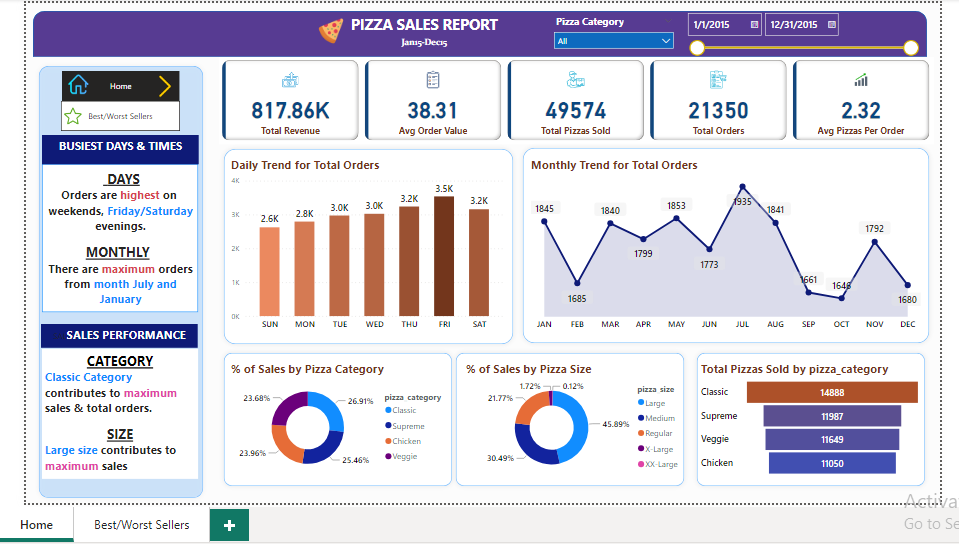

The page's visual inventory and layout, read from the dashboard file:
{"tool":"powerbi","page":{"name":"Home","canvas":[1500,820],"ordinal":0},"visuals":[{"type":"shape","box":[13.1,95.1,285.4,724.9],"z":0},{"type":"cardVisual","fields":{"Data":["pizza_sales.Total Revenue","pizza_sales.Avg Order Value","pizza_sales.Total Pizzas Sold","pizza_sales.Total Orders","pizza_sales.Avg Pizzas Per Order"]},"box":[316.5,88.6,1172.6,142.7],"z":1000},{"type":"shape","box":[11.5,13.1,1466.2,75.4],"z":2000},{"type":"textbox","box":[500,12.3,306.2,42],"z":3000},{"type":"textbox","box":[603.7,49.4,98.8,28.4],"z":4000},{"type":"image","box":[471.6,19.8,55.6,51.9],"z":5000},{"type":"shape","box":[316.5,231.2,490.4,336.2],"z":6000},{"type":"columnChart","title":"Daily Trend for Total Orders","fields":{"Category":["pizza_sales.Order Day"],"Y":["pizza_sales.Total Orders"]},"box":[331.3,252.6,457.6,291.9],"z":7000},{"type":"shape","box":[806.9,229.6,682.2,336.2],"z":8000},{"type":"areaChart","title":"Monthly Trend for Total Orders","fields":{"Category":["pizza_sales.Order Month"],"Y":["pizza_sales.Total Orders"]},"box":[823.3,252.6,649.4,291.9],"z":9000},{"type":"shape","box":[316.5,565.8,390,234.5],"z":10000},{"type":"shape","box":[697,565.8,390.3,234.5],"z":11000},{"type":"shape","box":[1092.2,565.8,390,234.5],"z":12000},{"type":"donutChart","title":"% of Sales by Pizza Category","fields":{"Y":["pizza_sales.Total Revenue"],"Category":["pizza_sales.pizza_category"]},"box":[331.3,587.1,370.6,193.5],"z":13000},{"type":"donutChart","title":"% of Sales by Pizza Size","fields":{"Y":["pizza_sales.Total Revenue"],"Category":["pizza_sales.pizza_size"]},"box":[716.7,587.1,370.6,193.5],"z":14000},{"type":"funnel","fields":{"Category":["pizza_sales.pizza_category"],"Y":["pizza_sales.Total Pizzas Sold"]},"box":[1102.1,587.1,370.6,193.5],"z":15000},{"type":"textbox","box":[24.6,526.4,257.5,39.4],"z":16000},{"type":"textbox","box":[26.2,264,255.8,242.7],"z":17000},{"type":"textbox","box":[26.2,216.5,257.5,47.6],"z":18000},{"type":"textbox","box":[26.2,567.4,255.8,213.2],"z":19000},{"type":"slicer","fields":{"Values":["pizza_sales.pizza_category"]},"box":[856.1,14.8,216.5,64],"z":20000},{"type":"slicer","fields":{"Values":["pizza_sales.order_date"]},"box":[1072.6,6.6,400.2,80],"z":21000},{"type":"pageNavigator","box":[59,111.5,193.5,49.2],"z":21001},{"type":"pageNavigator","box":[57.4,160.7,195.2,49.2],"z":21002},{"type":"image","box":[205,111.5,45.9,49.2],"z":21003},{"type":"image","box":[57.4,111.5,55.8,42.6],"z":21004},{"type":"image","box":[57.4,160.7,39.4,49.2],"z":21005}]}

Visuals, with their boxes on the page's 1500x820 design canvas (x1, y1, x2, y2). These are canvas units, not pixel positions in the 959x544 screenshot, which may show the page scaled, cropped or inside an application window:
shape: 13:95:298:820
cardVisual - pizza_sales.Total Revenue x pizza_sales.Avg Order Value: 316:89:1489:231
shape: 12:13:1478:88
textbox: 500:12:806:54
textbox: 604:49:702:78
image: 472:20:527:72
shape: 316:231:807:567
"Daily Trend for Total Orders" columnChart: 331:253:789:544
shape: 807:230:1489:566
"Monthly Trend for Total Orders" areaChart: 823:253:1473:544
shape: 316:566:706:800
shape: 697:566:1087:800
shape: 1092:566:1482:800
"% of Sales by Pizza Category" donutChart: 331:587:702:781
"% of Sales by Pizza Size" donutChart: 717:587:1087:781
funnel - pizza_sales.pizza_category x pizza_sales.Total Pizzas Sold: 1102:587:1473:781
textbox: 25:526:282:566
textbox: 26:264:282:507
textbox: 26:216:284:264
textbox: 26:567:282:781
slicer - pizza_sales.pizza_category: 856:15:1073:79
slicer - pizza_sales.order_date: 1073:7:1473:87
pageNavigator: 59:112:252:161
pageNavigator: 57:161:253:210
image: 205:112:251:161
image: 57:112:113:154
image: 57:161:97:210
